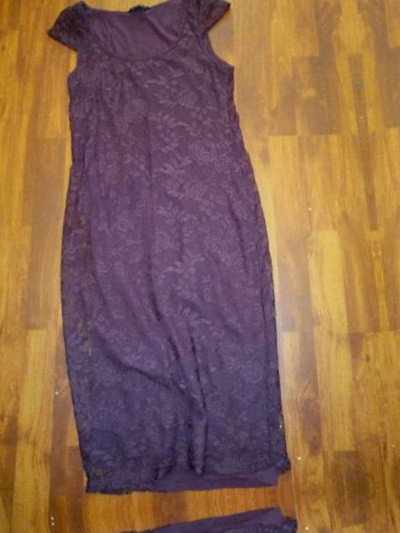Dress: (4, 0, 313, 513), (62, 501, 371, 533)
